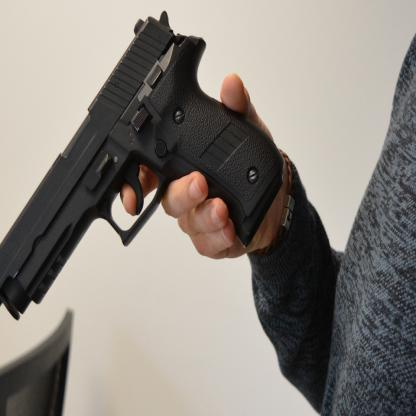gun: (0, 7, 287, 324)
